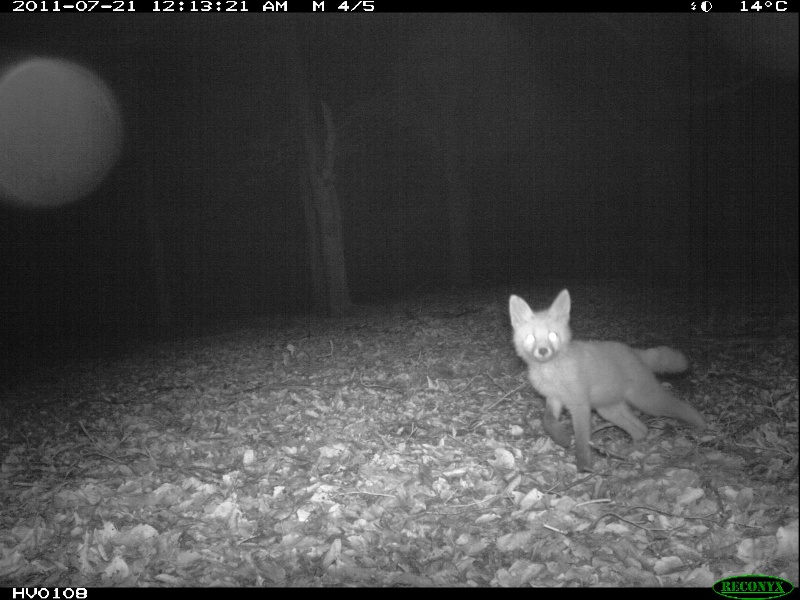fox: (502, 280, 718, 476)
